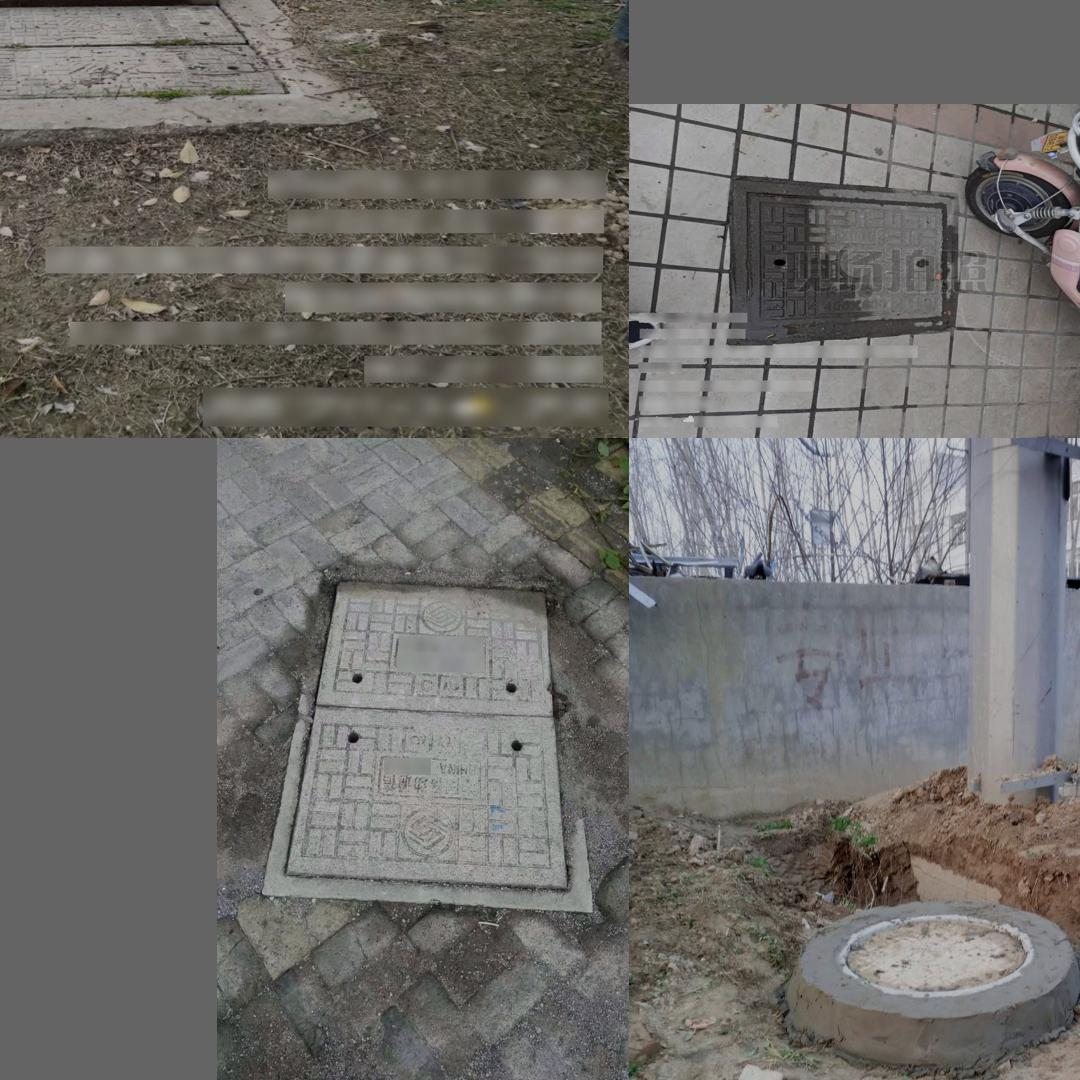good: (260, 566, 591, 916), (731, 179, 955, 335), (837, 910, 1033, 996)
uncovered: (0, 0, 306, 110)
